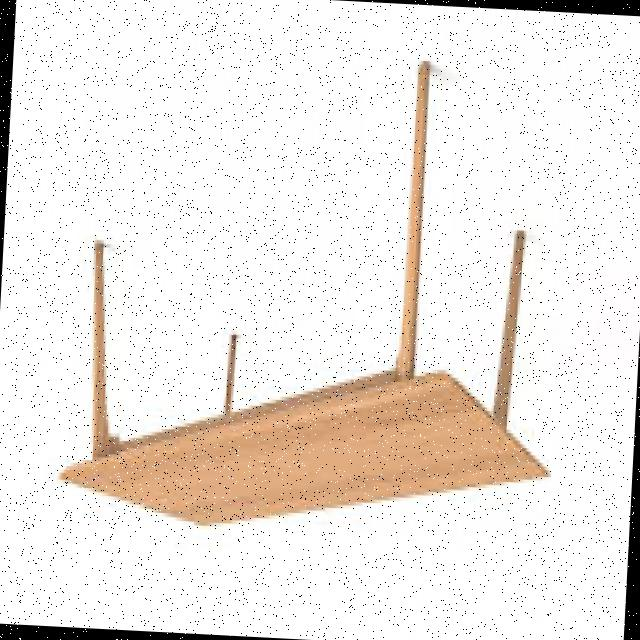Table: (44, 37, 580, 558)
